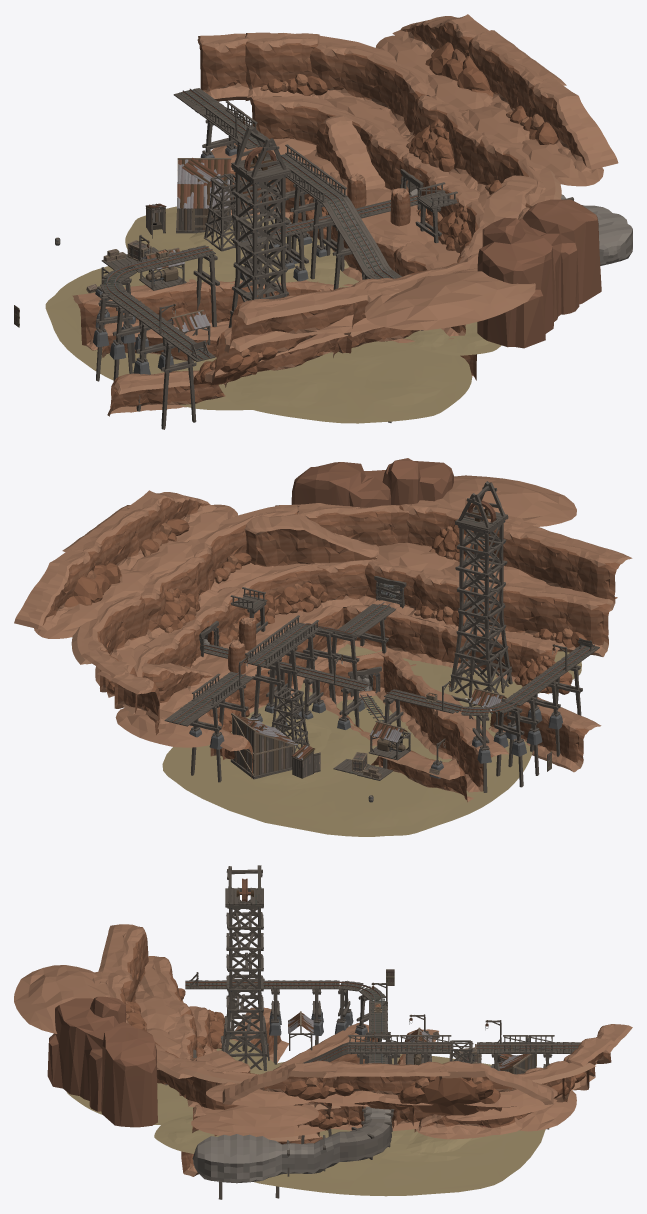
Rendered from myscene.glb.
3 views of the same model, one above another, from view 1: azimuth 30°, elevation 25°; view 2: azimuth 150°, elevation 25°; view 3: azimuth 270°, elevation 25° (orthographic). The views are drawn at different scales.
Visible parts, largest first — view 1: SM_Env_Mound_Large_02__42_, SM_Env_RockTall_03__12__PolygonWesternFrontier_Texture_01_A_, SM_Env_Quarry_Ground_02__12__PolygonWesternFrontier_Texture_, SM_Env_Quarry_Wall_Curved_02__7__PolygonWesternFrontier_Text, SM_Bld_Quarry_Tower_01, SM_Env_Quarry_Wall_Straight_01__26__PolygonWesternFrontier_T, SM_Env_Mound_Large_02__40_, SM_Env_Quarry_Wall_End_01_PolygonWesternFrontier_Texture_01_, SM_Env_Quarry_Wall_Curved_02__6__PolygonWesternFrontier_Text, SM_Env_Quarry_Wall_Straight_01__1__PolygonWesternFrontier_Te, SM_Env_Quarry_Wall_Straight_03__2__PolygonWesternFrontier_Te, SM_Env_Quarry_Wall_Straight_01__10__PolygonWesternFrontier_T (+51 smaller); view 2: SM_Env_Mound_Large_02__40_, SM_Bld_Quarry_Tower_01, SM_Env_RockTall_03__12__PolygonWesternFrontier_Texture_01_A_, SM_Env_Quarry_Wall_Straight_01__26__PolygonWesternFrontier_T, SM_Env_Quarry_Wall_Straight_01__22__PolygonWesternFrontier_T, SM_Env_Quarry_Wall_Ramp_01__2__PolygonWesternFrontier_Textur, SM_Env_Mound_Large_02__41_, SM_Env_Quarry_Ground_02__12__PolygonWesternFrontier_Texture_, SM_Env_Quarry_Wall_Curved_02__7__PolygonWesternFrontier_Text, SM_Env_Quarry_Wall_Straight_01__05__PolygonWesternFrontier_T, SM_Env_Quarry_Wall_End_01__1__PolygonWesternFrontier_Texture, SM_Env_Quarry_Wall_Straight_01__1__PolygonWesternFrontier_Te (+60 smaller); view 3: SM_Env_RockTall_03__12__PolygonWesternFrontier_Texture_01_A_, SM_Env_Mound_Large_02__40_, SM_Bld_Quarry_Tower_01, SM_Env_Mine_Tunnel_Wide_End_01_PolygonWesternFrontier_Textur, SM_Env_Quarry_Ground_02__12__PolygonWesternFrontier_Texture_, SM_Env_Quarry_Rocks_03__18_, SM_Env_Quarry_Wall_Straight_01__1__PolygonWesternFrontier_Te, SM_Env_Quarry_Wall_Straight_01__26__PolygonWesternFrontier_T, SM_Env_Quarry_Wall_End_01_PolygonWesternFrontier_Texture_01_, SM_Env_Quarry_Ground_02__8_, SM_Env_Quarry_Wall_Ramp_01__2__PolygonWesternFrontier_Textur, SM_Env_Mound_Large_02__47_ (+33 smaller).
Part boxes in pixels (left/top/right/bottom): SM_Env_Mound_Large_02__42_: left=219, top=341, right=472, bottom=423; SM_Env_RockTall_03__12__PolygonWesternFrontier_Texture_01_A_: left=477, top=199, right=601, bottom=348; SM_Env_Quarry_Ground_02__12__PolygonWesternFrontier_Texture_: left=364, top=268, right=535, bottom=330; SM_Env_Quarry_Wall_Curved_02__7__PolygonWesternFrontier_Text: left=310, top=35, right=435, bottom=136; SM_Bld_Quarry_Tower_01: left=228, top=166, right=289, bottom=327; SM_Env_Quarry_Wall_Straight_01__26__PolygonWesternFrontier_T: left=224, top=278, right=398, bottom=352; SM_Env_Mound_Large_02__40_: left=45, top=266, right=251, bottom=410; SM_Env_Quarry_Wall_End_01_PolygonWesternFrontier_Texture_01_: left=528, top=77, right=618, bottom=171; SM_Env_Quarry_Wall_Curved_02__6__PolygonWesternFrontier_Text: left=249, top=95, right=406, bottom=145; SM_Env_Quarry_Wall_Straight_01__1__PolygonWesternFrontier_Te: left=468, top=30, right=566, bottom=116; SM_Env_Quarry_Wall_Straight_03__2__PolygonWesternFrontier_Te: left=245, top=33, right=319, bottom=100; SM_Env_Quarry_Wall_Straight_01__10__PolygonWesternFrontier_T: left=107, top=370, right=225, bottom=416; SM_Env_Mound_Large_02__40_: left=162, top=695, right=532, bottom=836; SM_Bld_Quarry_Tower_01: left=449, top=517, right=512, bottom=709; SM_Env_RockTall_03__12__PolygonWesternFrontier_Texture_01_A_: left=291, top=458, right=453, bottom=507; SM_Env_Quarry_Wall_Straight_01__26__PolygonWesternFrontier_T: left=489, top=518, right=632, bottom=611; SM_Env_Quarry_Wall_Straight_01__22__PolygonWesternFrontier_T: left=468, top=582, right=617, bottom=656; SM_Env_Quarry_Wall_Ramp_01__2__PolygonWesternFrontier_Textur: left=244, top=513, right=379, bottom=566; SM_Env_Mound_Large_02__41_: left=176, top=709, right=378, bottom=790; SM_Env_Quarry_Ground_02__12__PolygonWesternFrontier_Texture_: left=435, top=475, right=576, bottom=526; SM_Env_Quarry_Wall_Curved_02__7__PolygonWesternFrontier_Text: left=71, top=591, right=150, bottom=697; SM_Env_Quarry_Wall_Straight_01__05__PolygonWesternFrontier_T: left=275, top=503, right=409, bottom=546; SM_Env_Quarry_Wall_End_01__1__PolygonWesternFrontier_Texture: left=14, top=547, right=94, bottom=630; SM_Env_Quarry_Wall_Straight_01__1__PolygonWesternFrontier_Te: left=62, top=505, right=151, bottom=569; SM_Env_RockTall_03__12__PolygonWesternFrontier_Texture_01_A_: left=47, top=996, right=157, bottom=1127; SM_Env_Mound_Large_02__40_: left=254, top=1054, right=545, bottom=1196; SM_Bld_Quarry_Tower_01: left=221, top=894, right=269, bottom=1070; SM_Env_Mine_Tunnel_Wide_End_01_PolygonWesternFrontier_Textur: left=192, top=1134, right=288, bottom=1183; SM_Env_Quarry_Ground_02__12__PolygonWesternFrontier_Texture_: left=14, top=965, right=110, bottom=1033; SM_Env_Quarry_Rocks_03__18_: left=395, top=1076, right=502, bottom=1115; SM_Env_Quarry_Wall_Straight_01__1__PolygonWesternFrontier_Te: left=322, top=1061, right=450, bottom=1094; SM_Env_Quarry_Wall_Straight_01__26__PolygonWesternFrontier_T: left=98, top=924, right=148, bottom=1002; SM_Env_Quarry_Wall_End_01_PolygonWesternFrontier_Texture_01_: left=222, top=1060, right=338, bottom=1104; SM_Env_Quarry_Ground_02__8_: left=201, top=1104, right=319, bottom=1126; SM_Env_Quarry_Wall_Ramp_01__2__PolygonWesternFrontier_Textur: left=157, top=1050, right=250, bottom=1109; SM_Env_Mound_Large_02__47_: left=374, top=1129, right=482, bottom=1161.
Size of the model in its own units: 60.45 by 34.38 by 72.14.
1 material, 1 textured.
